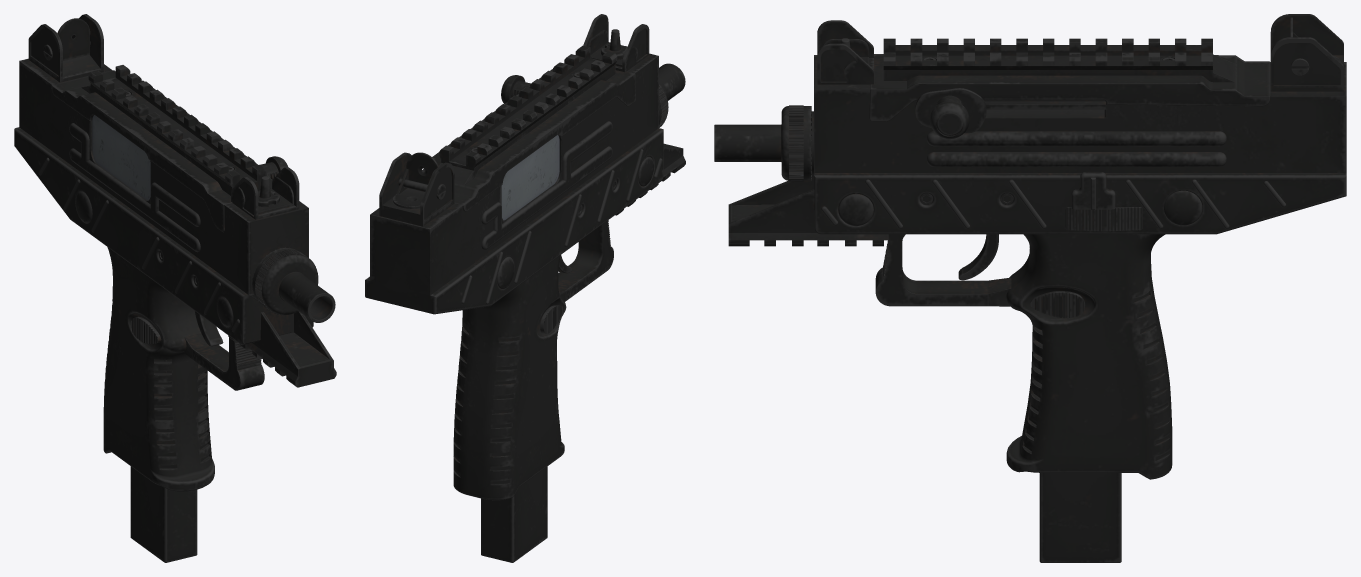
File: uzi.glb
3 renders of one model, left to right at view 1: azimuth 30°, elevation 25°; view 2: azimuth 150°, elevation 25°; view 3: azimuth 270°, elevation 25°, orthographic. The views are drawn at different scales.
Parts seen in each view (by area): view 1: Object_8, Object_6, Object_3, Object_2, Object_4, Object_10; view 2: Object_8, Object_6, Object_3, Object_2, Object_10, Object_4; view 3: Object_6, Object_8, Object_7, Object_3, Object_2, Object_10, Object_4.
Part boxes in pixels (x1,y1,x2,y2): Object_8: (28,14,336,491); Object_6: (14,58,313,344); Object_3: (69,123,200,562); Object_2: (92,115,287,327); Object_4: (131,311,223,346); Object_10: (38,157,239,332); Object_8: (377,30,685,500); Object_6: (365,14,663,314); Object_3: (481,121,612,562); Object_2: (501,75,653,220); Object_10: (461,149,662,304); Object_4: (540,255,571,333); Object_6: (814,20,1346,234); Object_8: (714,14,1343,479); Object_7: (821,131,1229,228); Object_3: (1039,207,1142,562); Object_2: (915,88,1115,209); Object_10: (838,181,1285,225); Object_4: (958,234,1085,318).
Size of the model in its own units: 0.474 by 2.03 by 2.18.
1 material, 1 textured.
